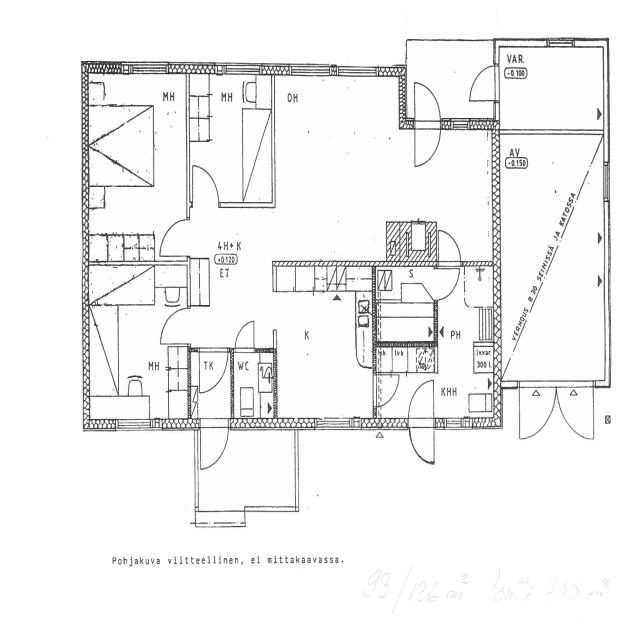door: (412, 75, 443, 172), (407, 378, 436, 464), (556, 382, 596, 443), (518, 382, 556, 442), (196, 416, 232, 473), (157, 212, 191, 261), (197, 347, 230, 395), (157, 302, 191, 348), (189, 159, 222, 206), (468, 61, 498, 104), (435, 226, 464, 269), (408, 376, 435, 419), (435, 260, 462, 302), (409, 422, 436, 463), (374, 370, 400, 408), (232, 316, 259, 352)
window: (288, 60, 332, 80), (218, 58, 260, 77), (336, 61, 379, 79), (121, 60, 167, 74), (322, 416, 355, 433), (601, 157, 612, 203)
zone: (499, 44, 611, 384), (85, 70, 188, 260), (87, 261, 190, 423), (271, 263, 372, 427), (186, 72, 273, 204), (434, 266, 494, 424), (376, 267, 438, 345), (231, 349, 276, 425)
